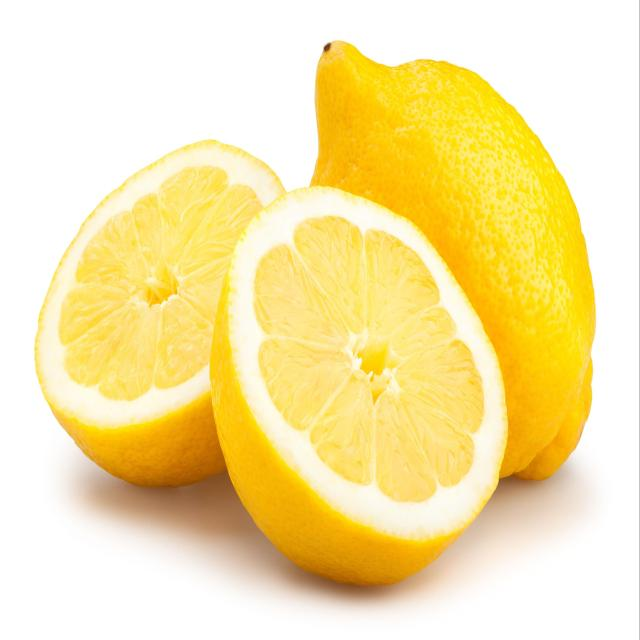lemon: (203, 174, 513, 597), (30, 128, 313, 504)
